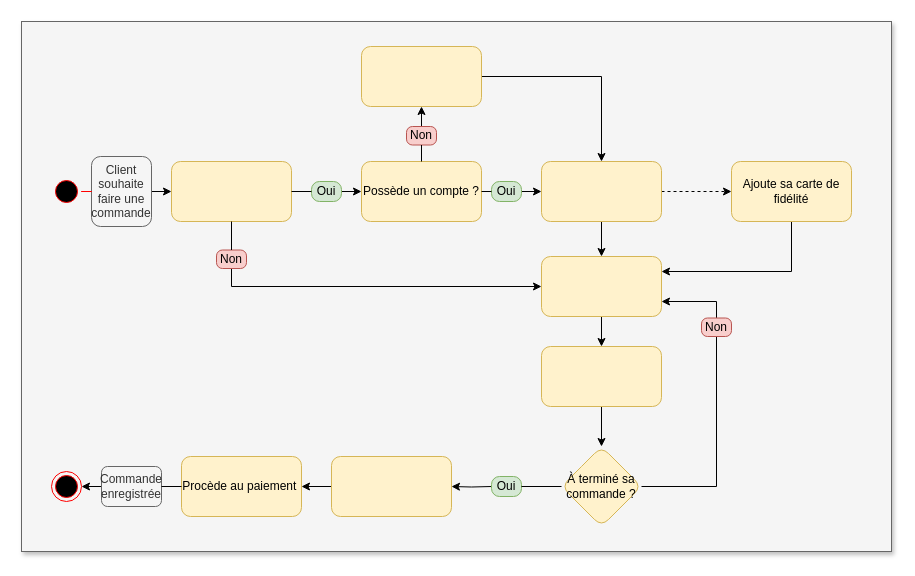
The diagram is 915 pixels wide and 576 high, and some of its shapes have lost their labels. The centre of each missing label's shape, as x and y in pixels:
"Ajoute un produit" goes at (x=601, y=376).
"Consulter la carte" goes at (x=601, y=286).
"S'inscrire" goes at (x=421, y=76).
"Se connecter" goes at (x=601, y=191).
"Souhaite se connecter ?" goes at (x=231, y=191).
"Valide sa commande" goes at (x=391, y=486).
